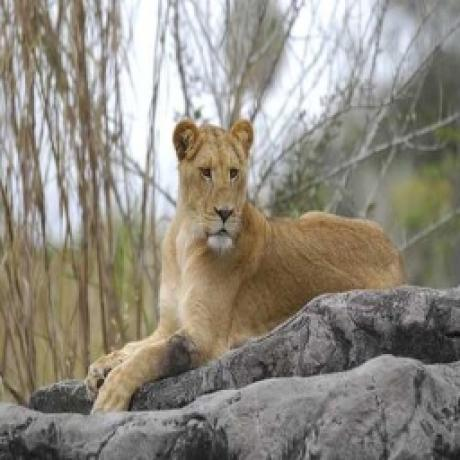Lion: (84, 110, 410, 417)
